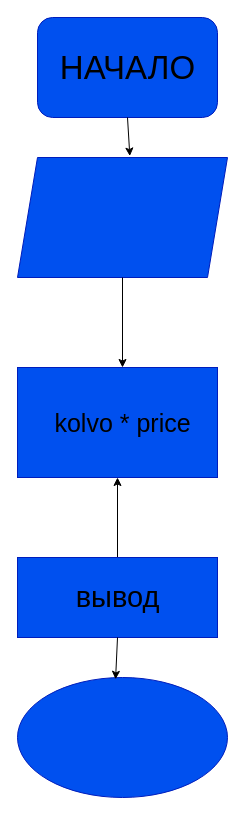
The diagram is 245 pixels wide and 815 high, and some of its shapes have lost their labels. Each missing label, with the centre of its shape:
"kolvo, price, total" goes at (x=122, y=217).
"конец" goes at (x=122, y=737).
